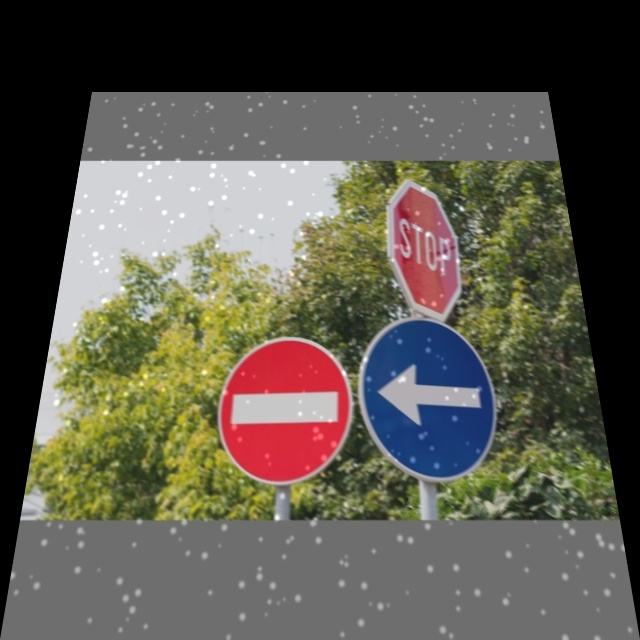Compulsory_Turn_Left: (358, 313, 505, 484)
